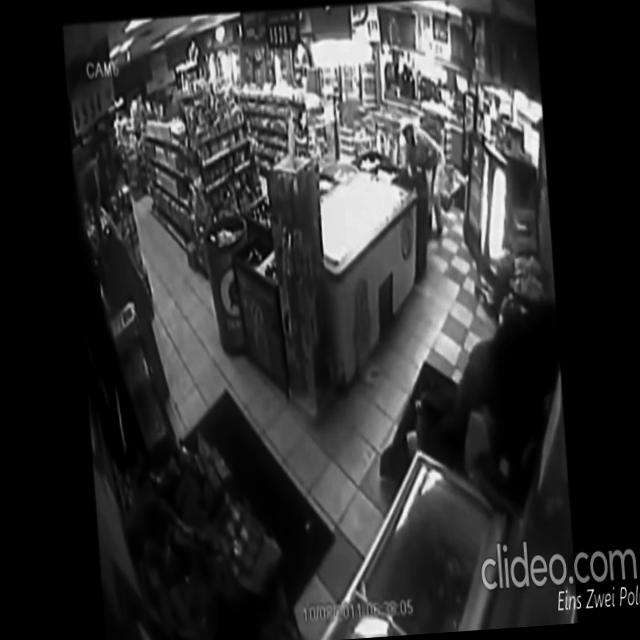person: (372, 298, 568, 476), (391, 111, 452, 244)
